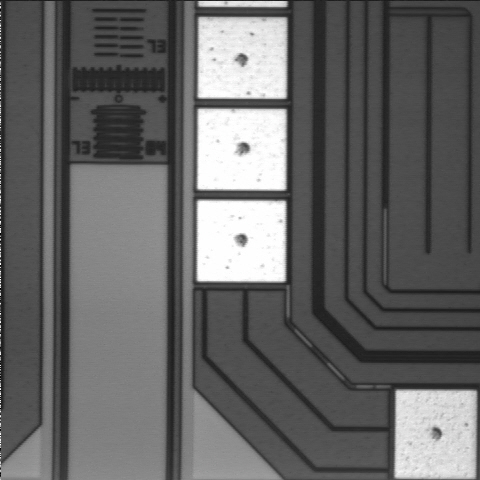pad: (198, 17, 287, 99), (197, 109, 286, 191), (197, 200, 286, 282)
